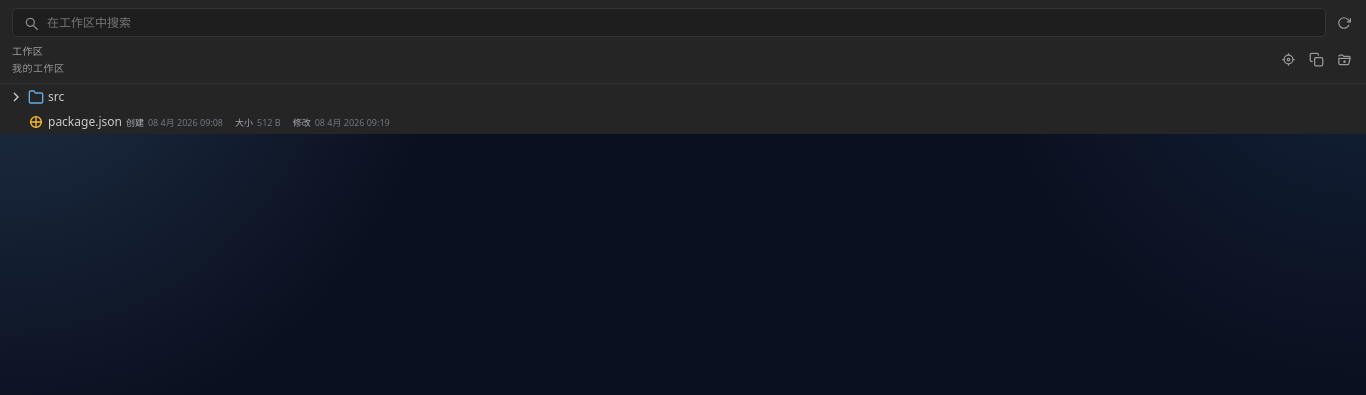
Test: FileTree.vue › 右键菜单 › 右键点击应显示右键菜单
Right-click the list item with class "file-tree-item" showing "src" at point(36, 96), box [8,88,64,105]
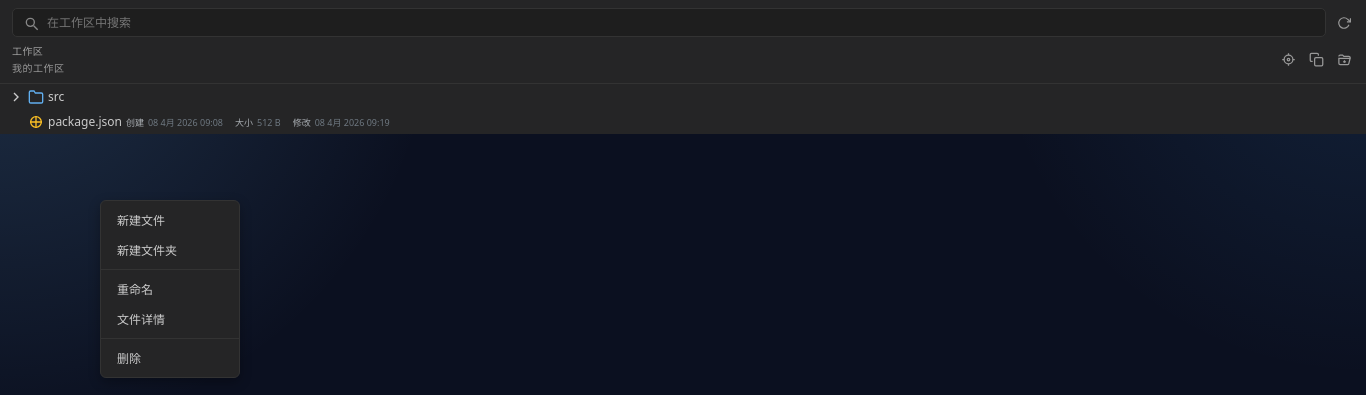
Expected: the element with class "context-menu" is shown, [100,200,240,378]
